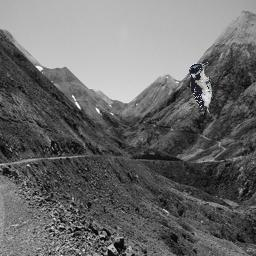Woodpecker: (189, 62, 213, 118)
